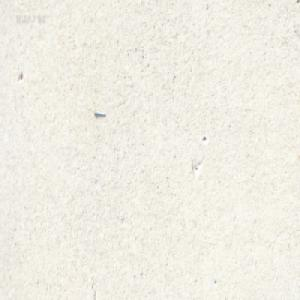Nail: (93, 108, 106, 116)
